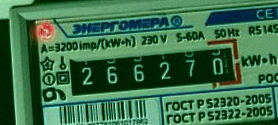0: (210, 55, 224, 77)
2: (79, 65, 94, 87), (158, 60, 171, 81)
6: (105, 65, 119, 86), (131, 63, 145, 83)
7: (182, 57, 197, 79)
screen: (58, 34, 249, 106)
